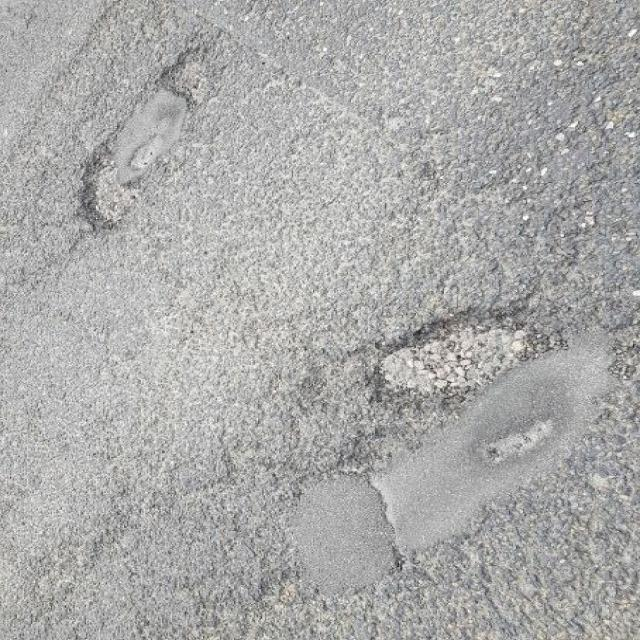pothole: (69, 36, 234, 236), (358, 302, 563, 412)
